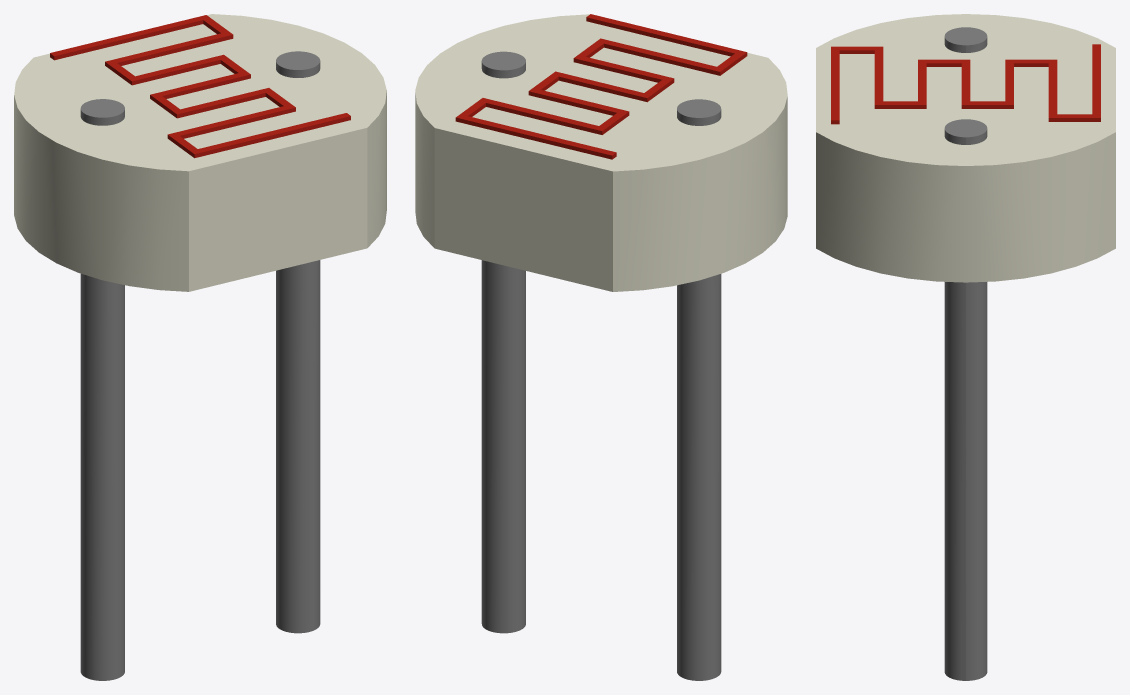
The model's file is kc-r_ldr_4.2x3.5mm_p2.54mm_vertical.glb.
3 renders of one model, left to right at view 1: azimuth 30°, elevation 25°; view 2: azimuth 150°, elevation 25°; view 3: azimuth 270°, elevation 25°, orthographic. The views are drawn at different scales.
Visible parts, largest first — view 1: 0.75_0.75_0.6666666666666666_0, 0.25_0.25_0.25_0, 0.4166666666666667_0_0_0; view 2: 0.75_0.75_0.6666666666666666_0, 0.25_0.25_0.25_0, 0.4166666666666667_0_0_0; view 3: 0.75_0.75_0.6666666666666666_0, 0.25_0.25_0.25_0, 0.4166666666666667_0_0_0.
Boxes of the visible parts, x1,y1,x2,y2 form: 0.75_0.75_0.6666666666666666_0: (14, 14, 386, 291); 0.25_0.25_0.25_0: (80, 51, 320, 680); 0.4166666666666667_0_0_0: (50, 15, 350, 158); 0.75_0.75_0.6666666666666666_0: (415, 14, 787, 291); 0.25_0.25_0.25_0: (481, 51, 721, 680); 0.4166666666666667_0_0_0: (455, 14, 747, 159); 0.75_0.75_0.6666666666666666_0: (816, 14, 1115, 282); 0.25_0.25_0.25_0: (944, 27, 987, 680); 0.4166666666666667_0_0_0: (831, 44, 1100, 124).
Bounding box in the file's own units: 0.42 × 0.7 × 0.3501.
